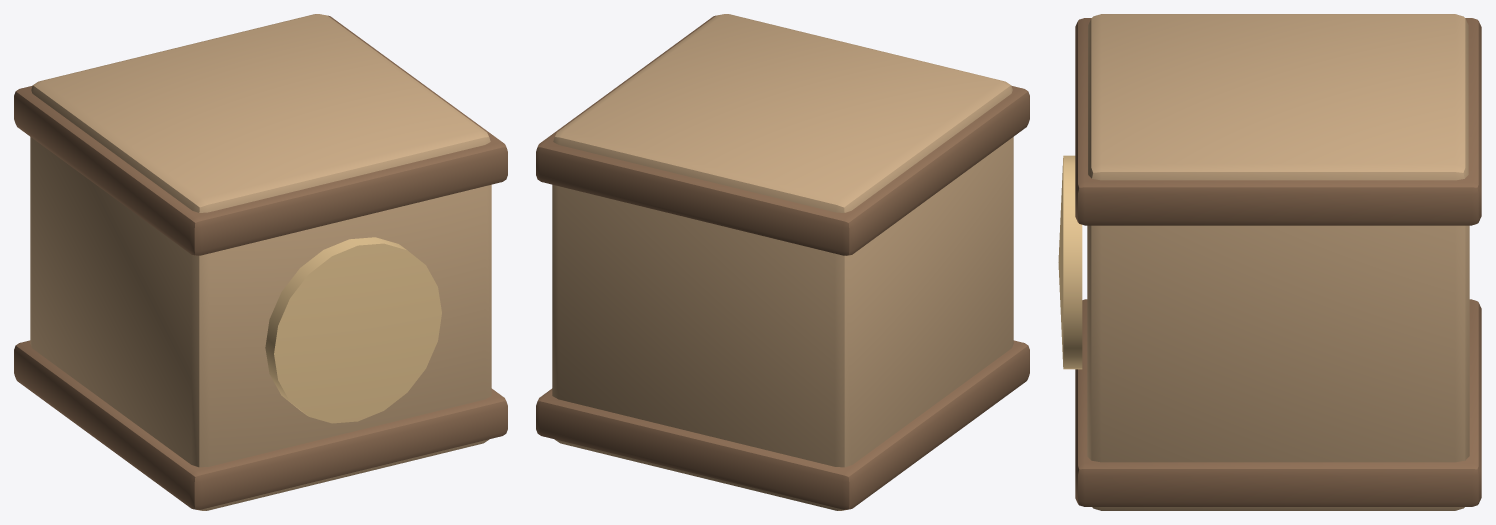
Rendered from CookieCrate_A.fbx.
3 views of the same model, side by side, from view 1: azimuth 30°, elevation 25°; view 2: azimuth 150°, elevation 25°; view 3: azimuth 270°, elevation 25° (orthographic). The views are drawn at different scales.
Parts seen in each view (by area): view 1: CookieCrate_A; view 2: CookieCrate_A; view 3: CookieCrate_A.
Part boxes in pixels (box(x1,y1,x2,y2)): CookieCrate_A: box(14, 14, 507, 510); CookieCrate_A: box(536, 14, 1029, 510); CookieCrate_A: box(1058, 14, 1481, 510).
Bounding box in the file's own units: 1.7 × 1.6 × 1.77.
